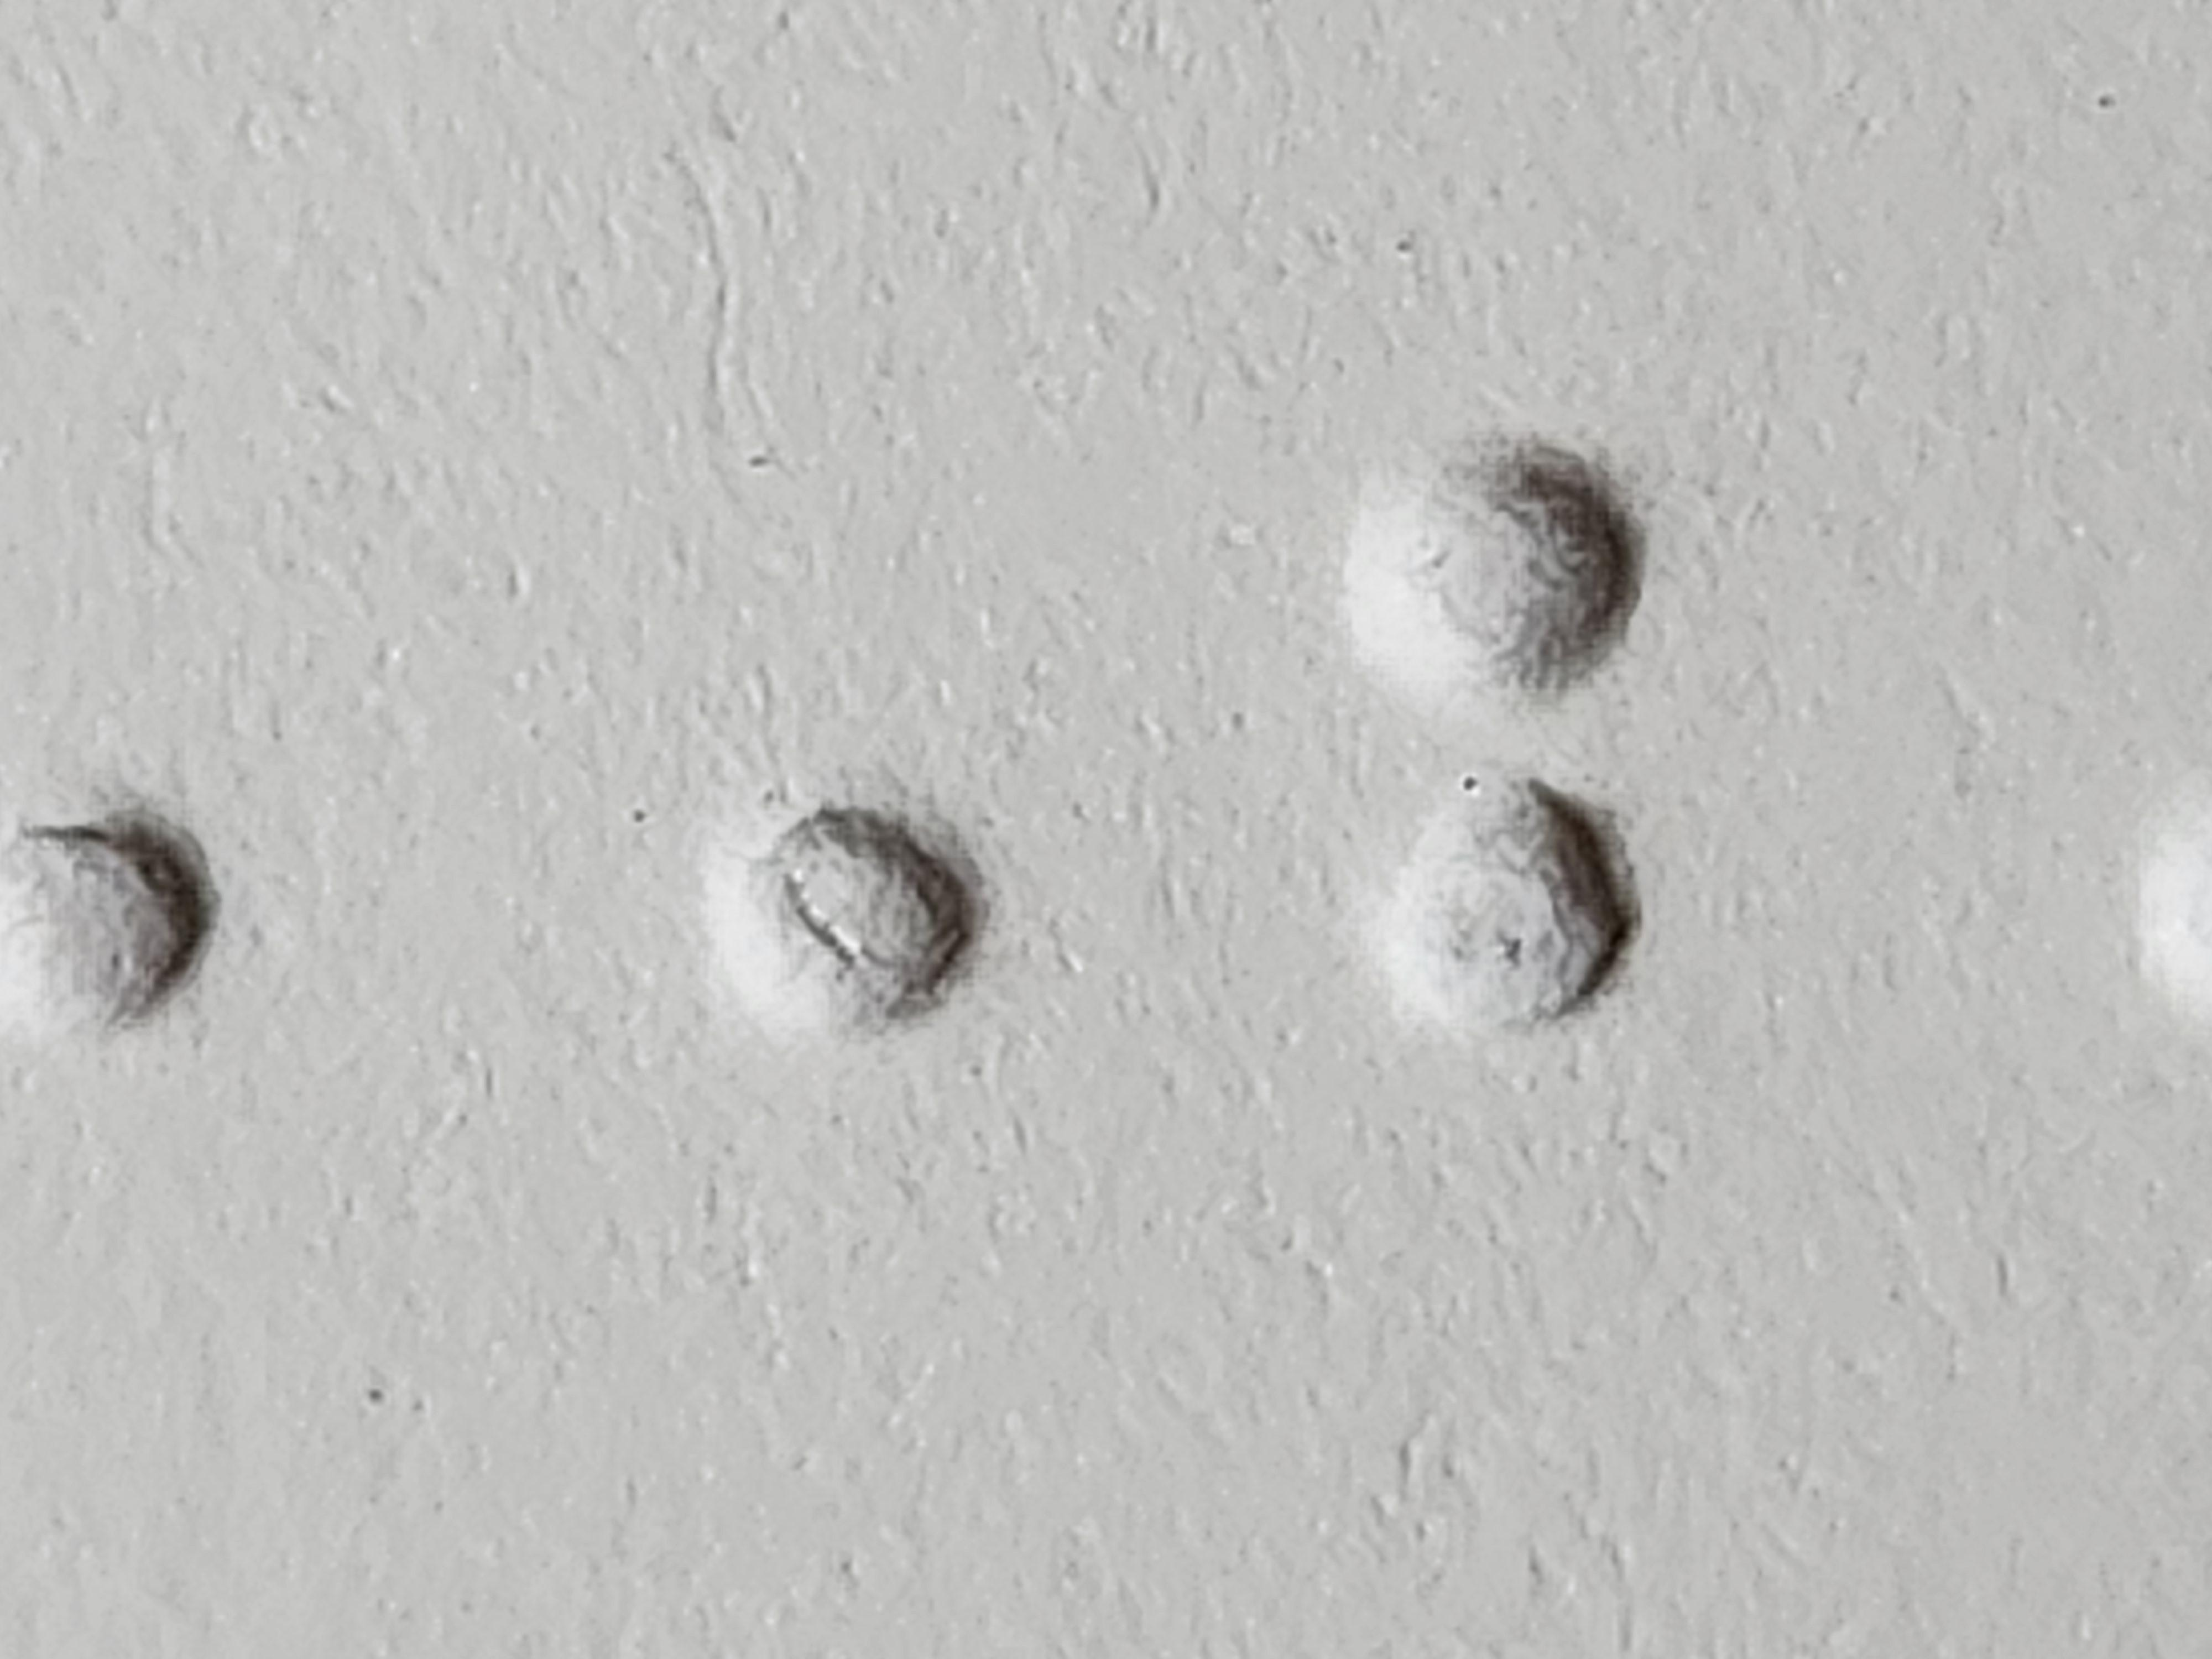one_cell_alphabet_upang: (827, 528, 1634, 1223)
